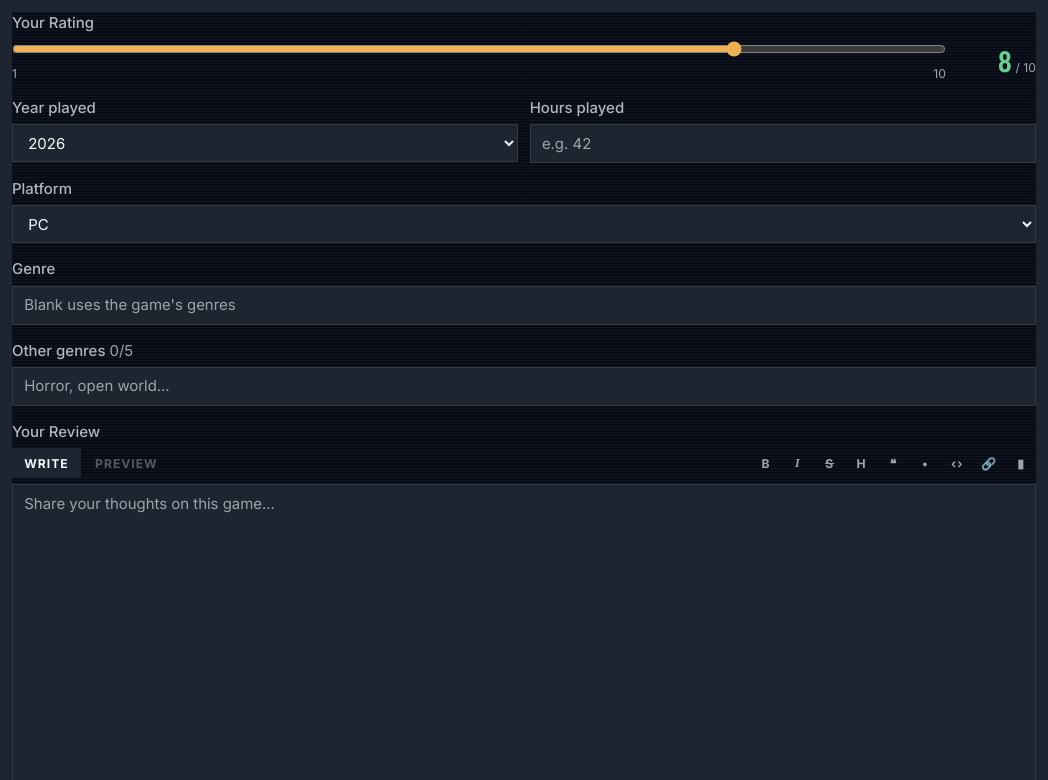
Test case: adding secondary genres to a review › splits a typed or pasted list at its commas
The width and height of the screenshot is (1048, 780).
expect the field labelled "Genre" is shown: met, box [12, 286, 1036, 325]
Step 1. Type "Horror, Open  World,Sho" into the field labelled "Other genres 0/5" → [524, 386], box [12, 367, 1036, 406]
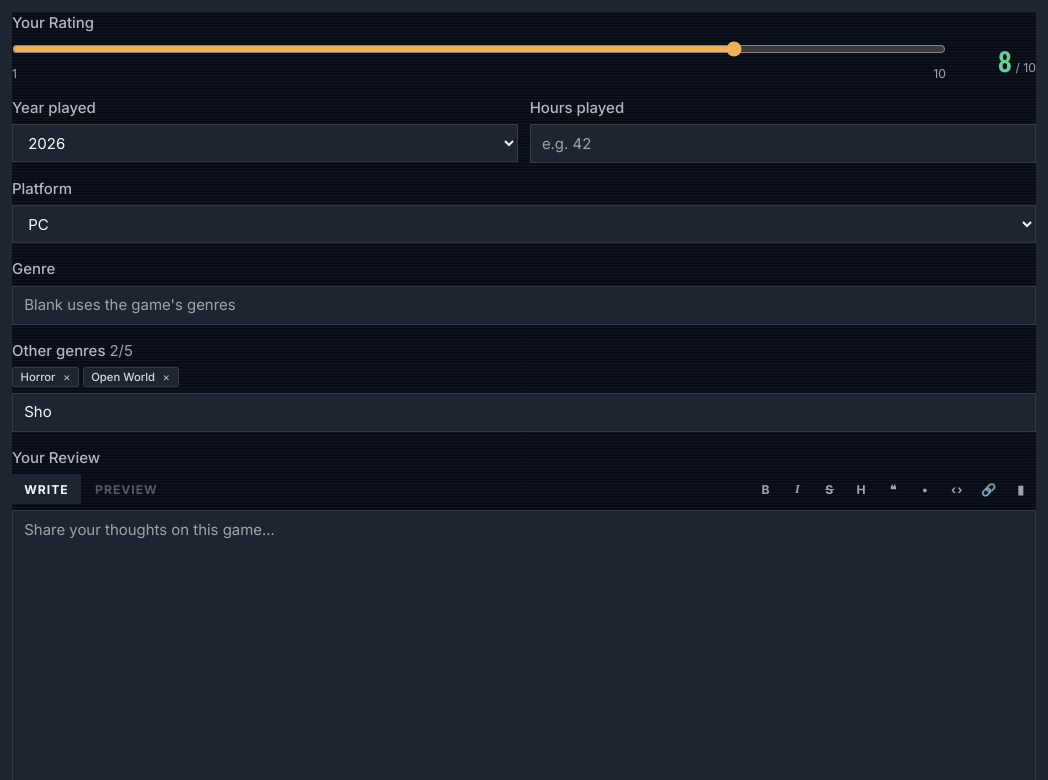
expect the field labelled "Other genres 2/5" holds "Sho": met, box [12, 393, 1036, 432]
